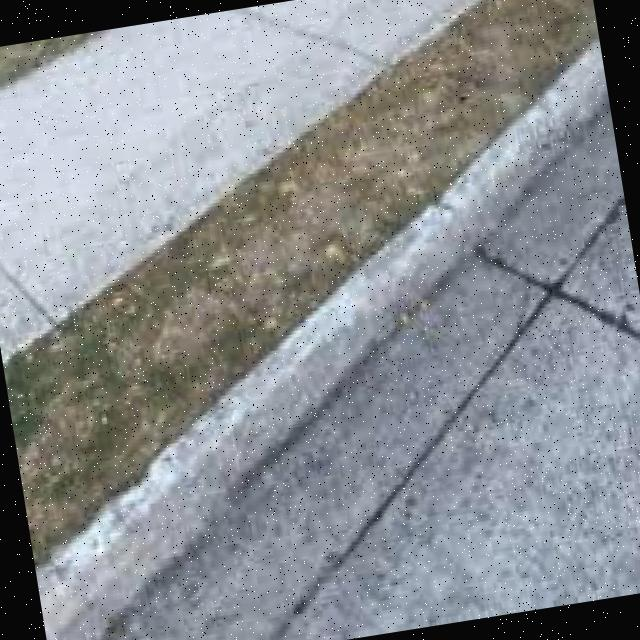curb: (20, 440, 227, 640), (193, 282, 367, 487), (344, 150, 546, 311), (492, 29, 620, 188)
